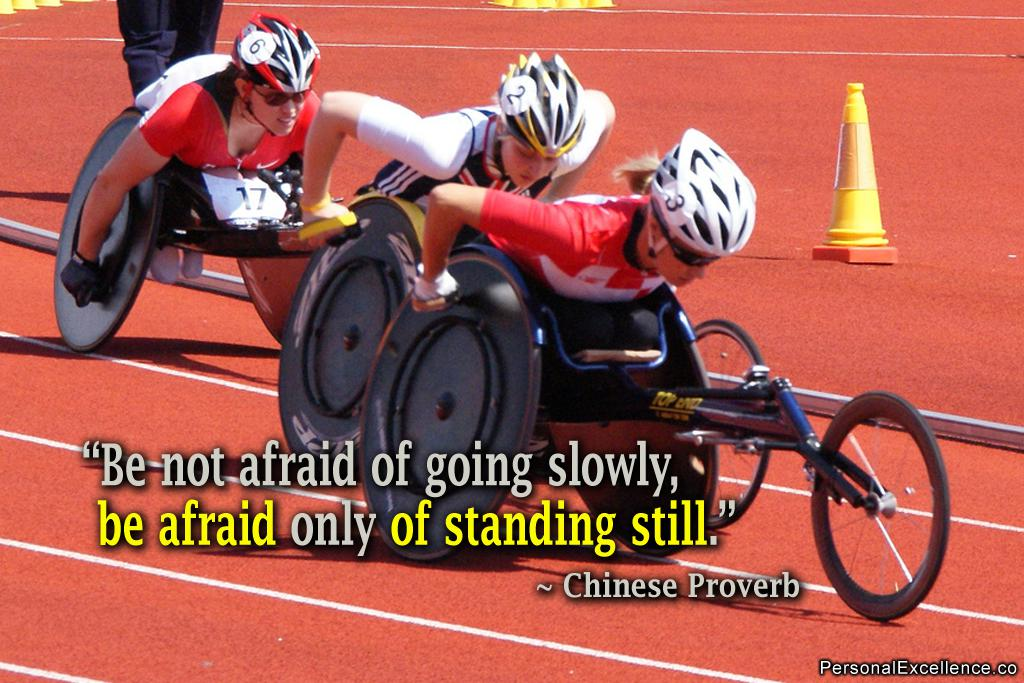Person: (408, 123, 754, 459), (56, 5, 322, 307), (298, 46, 619, 251), (114, 0, 224, 97)
